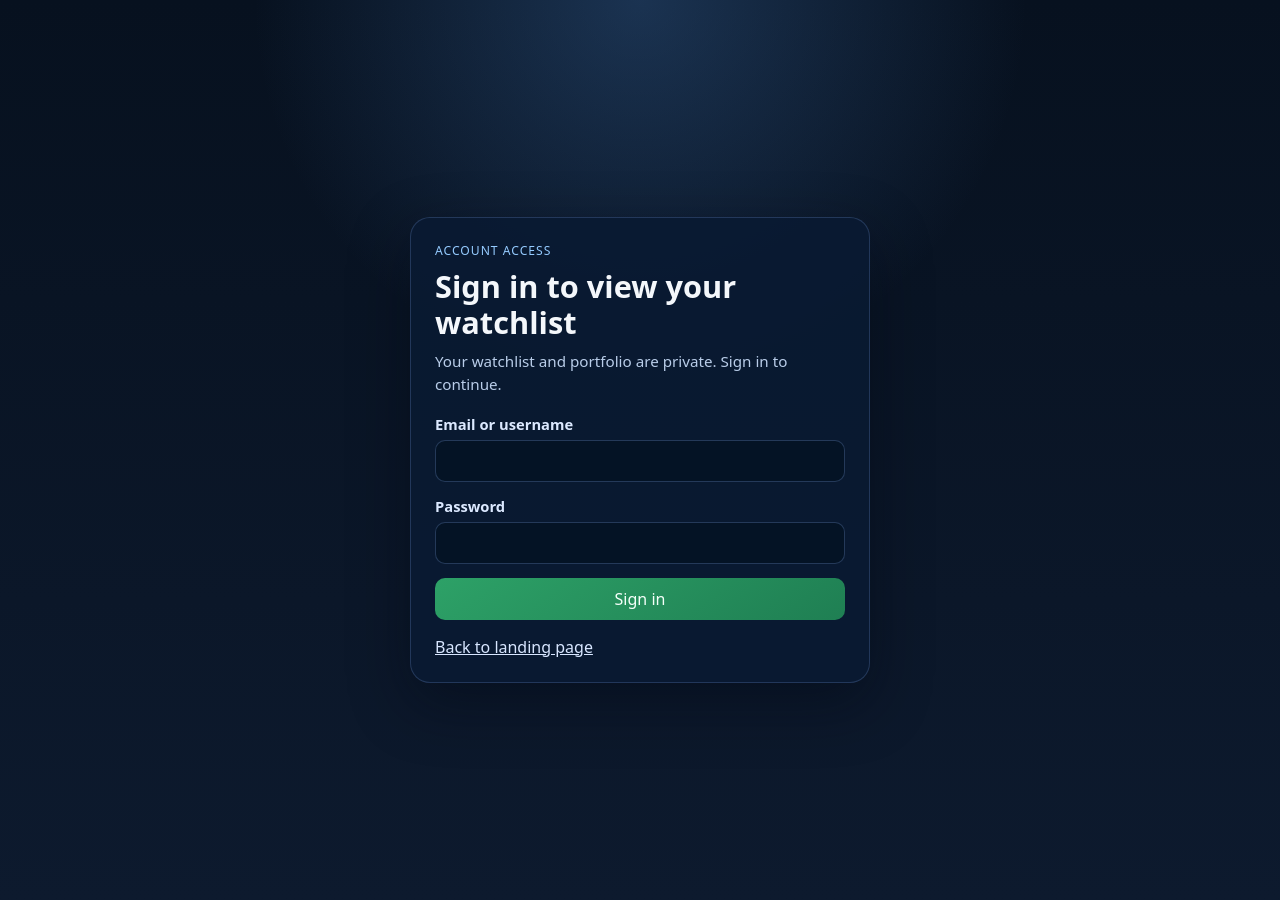
Test: LoginPage › shows required field validation errors before submit
The width and height of the screenshot is (1280, 900).
Click the button "Sign in": (640, 599) [435,578,845,620]
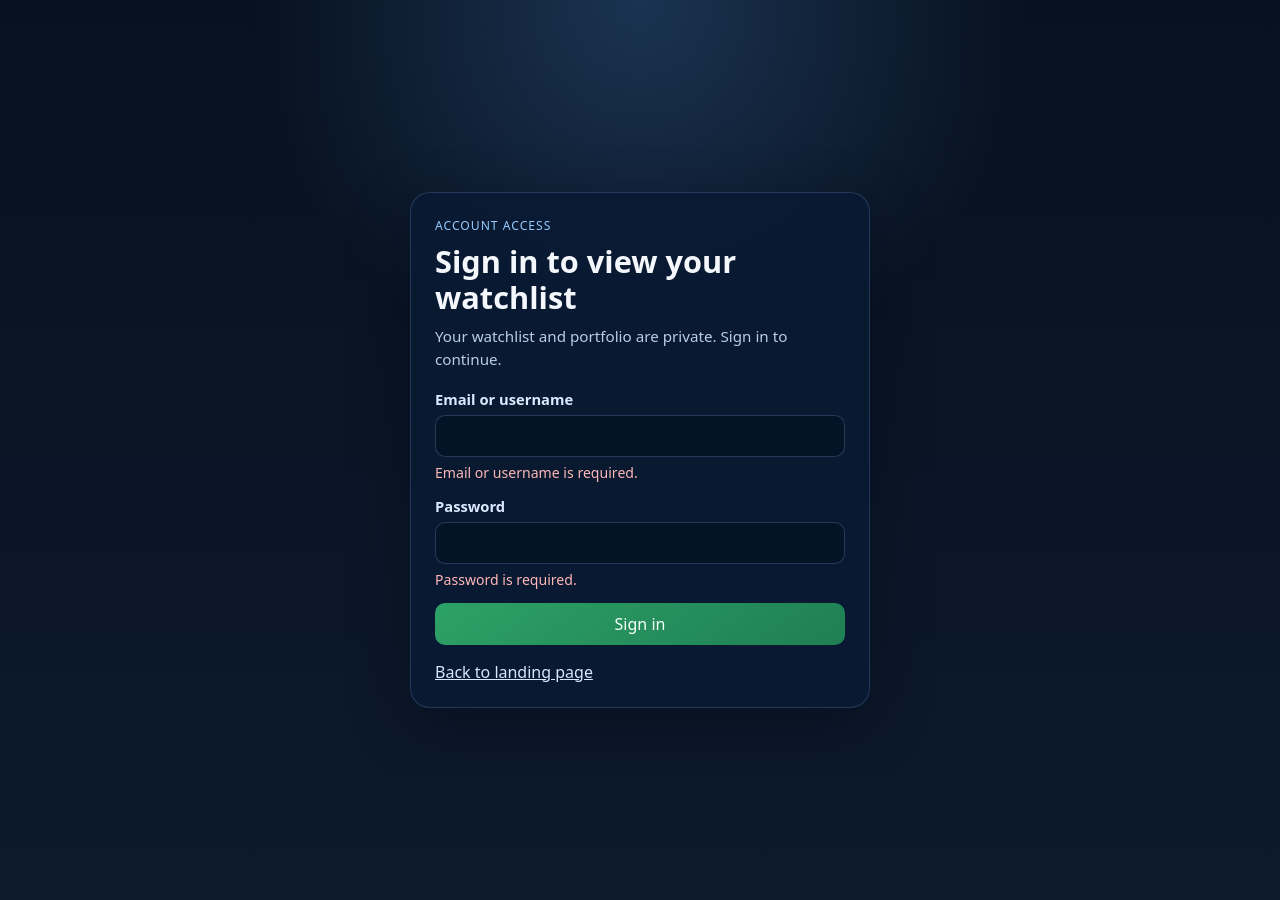
Expected: the text "Email or username is required." is shown, [435,463,638,482]
Expected: the text "Password is required." is shown, [435,570,577,589]
